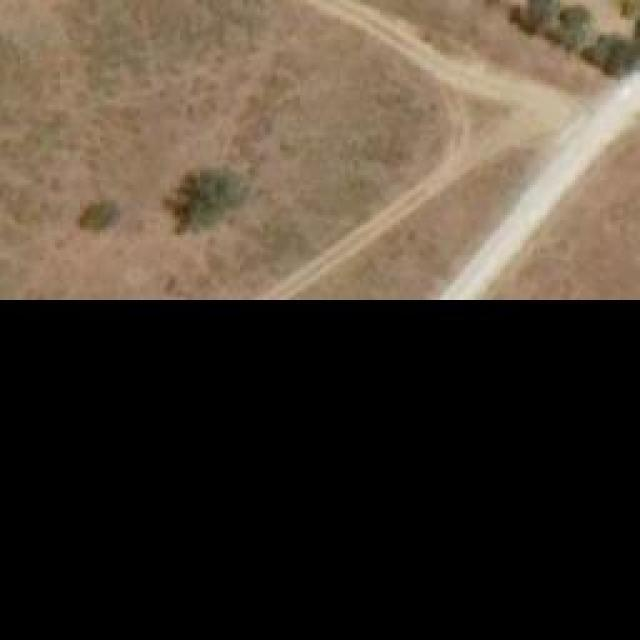Tree: (180, 165, 248, 220), (548, 7, 593, 45)
